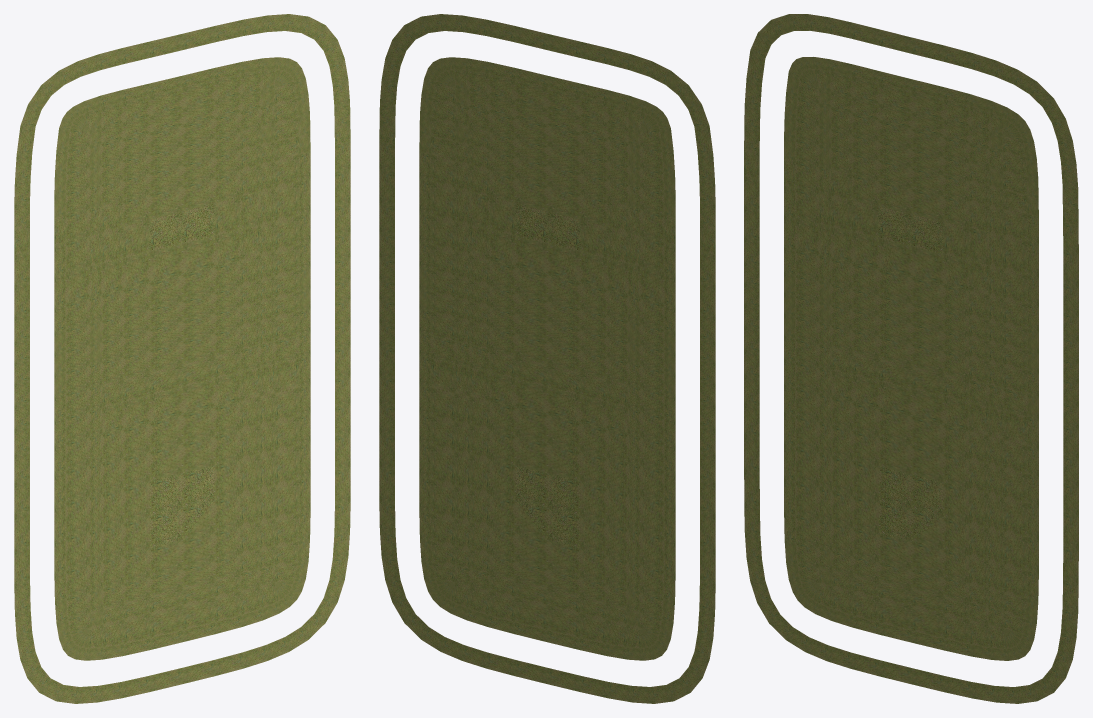
File: RacetrackGrass.fbx
3 renders of one model, left to right at view 1: azimuth 30°, elevation 25°; view 2: azimuth 150°, elevation 25°; view 3: azimuth 330°, elevation 25°, orthographic.
Visible parts, largest first — view 1: BezierCurve; view 2: BezierCurve; view 3: BezierCurve.
Boxes of the visible parts, x1=… form: BezierCurve: x1=14, y1=14, x2=350, y2=703; BezierCurve: x1=379, y1=14, x2=715, y2=703; BezierCurve: x1=744, y1=14, x2=1078, y2=703.
Bounding box in the file's own units: 1478 × 2731 × 0.000564.
